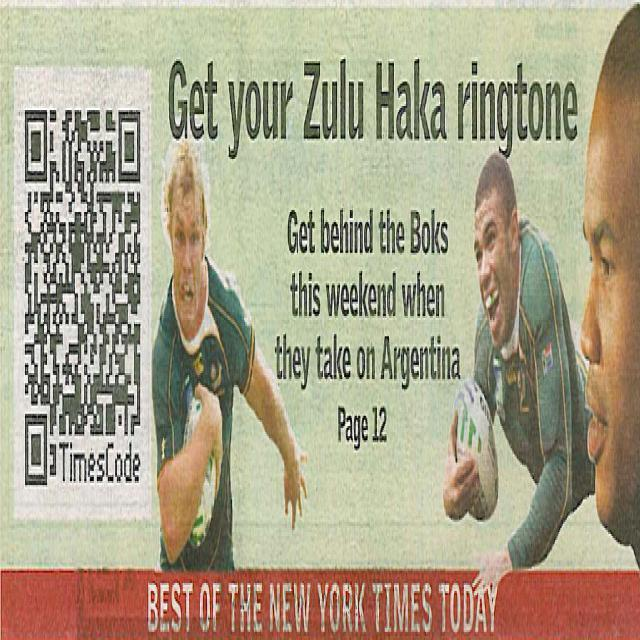qrcode: (26, 111, 141, 486)
